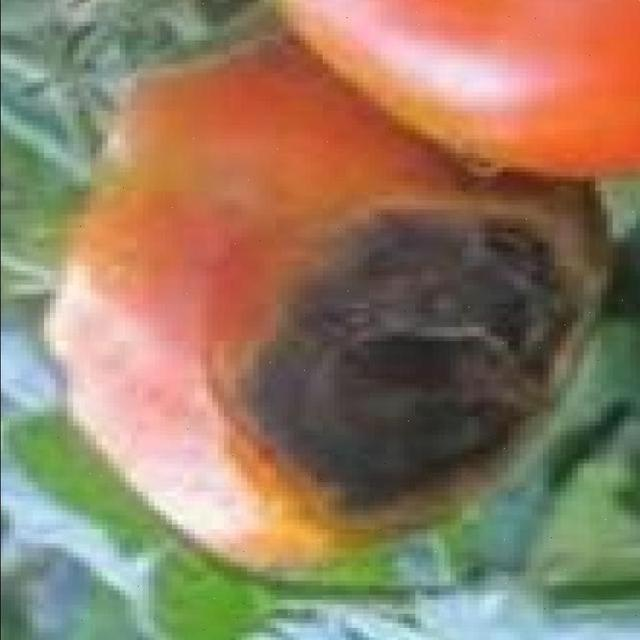Blossom End Rot Fruit: (154, 137, 391, 365)
